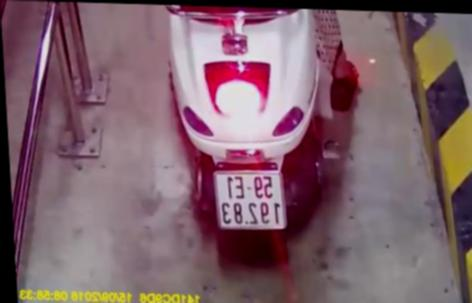License_Plate: (209, 163, 298, 234)
